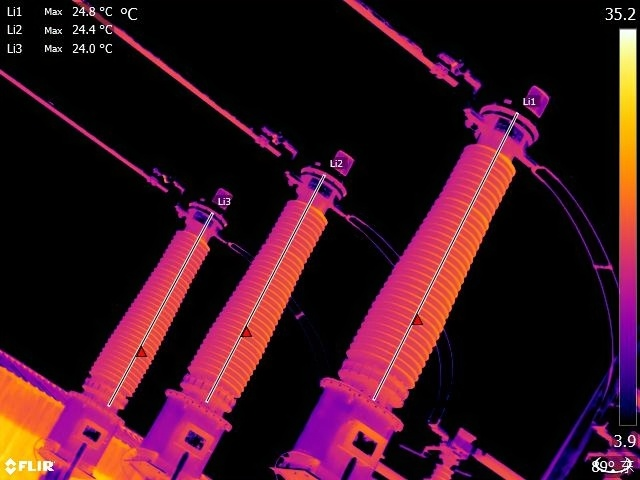current transformer: (285, 74, 566, 473), (151, 132, 357, 464), (47, 174, 241, 460)
post insulator: (424, 460, 456, 480)
switch: (437, 415, 530, 480)
